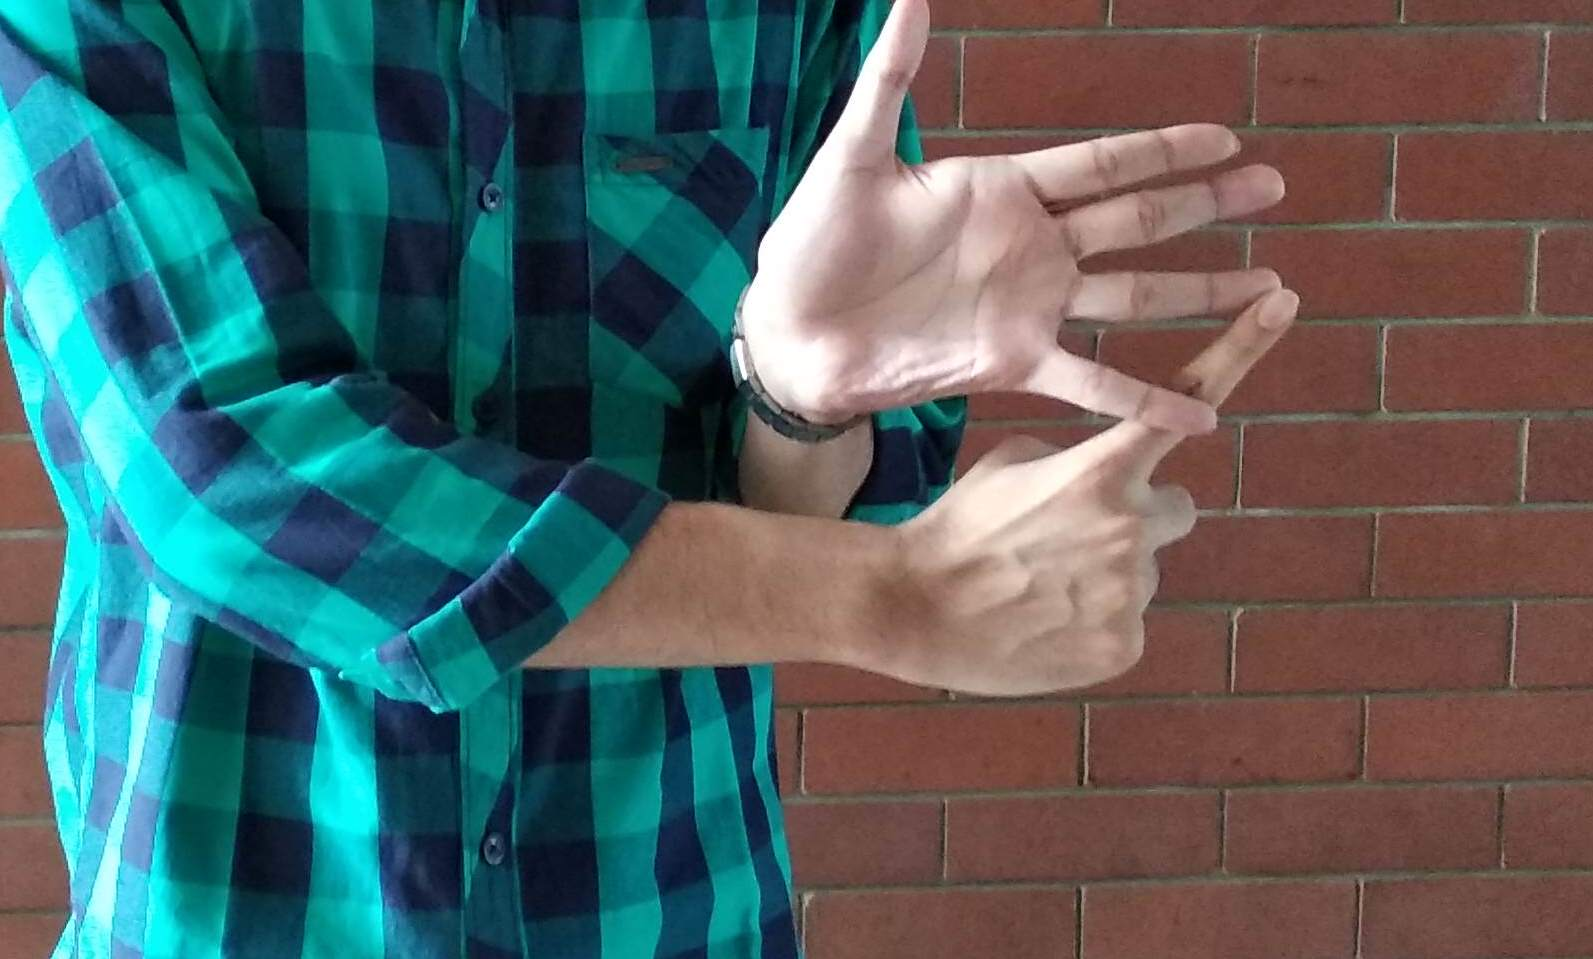e: (810, 24, 1284, 698)
